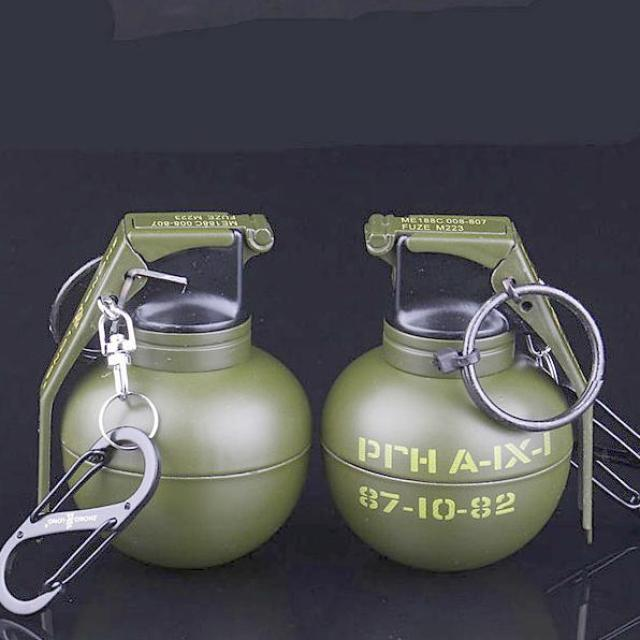grenade: (321, 213, 605, 574), (36, 214, 312, 575)
